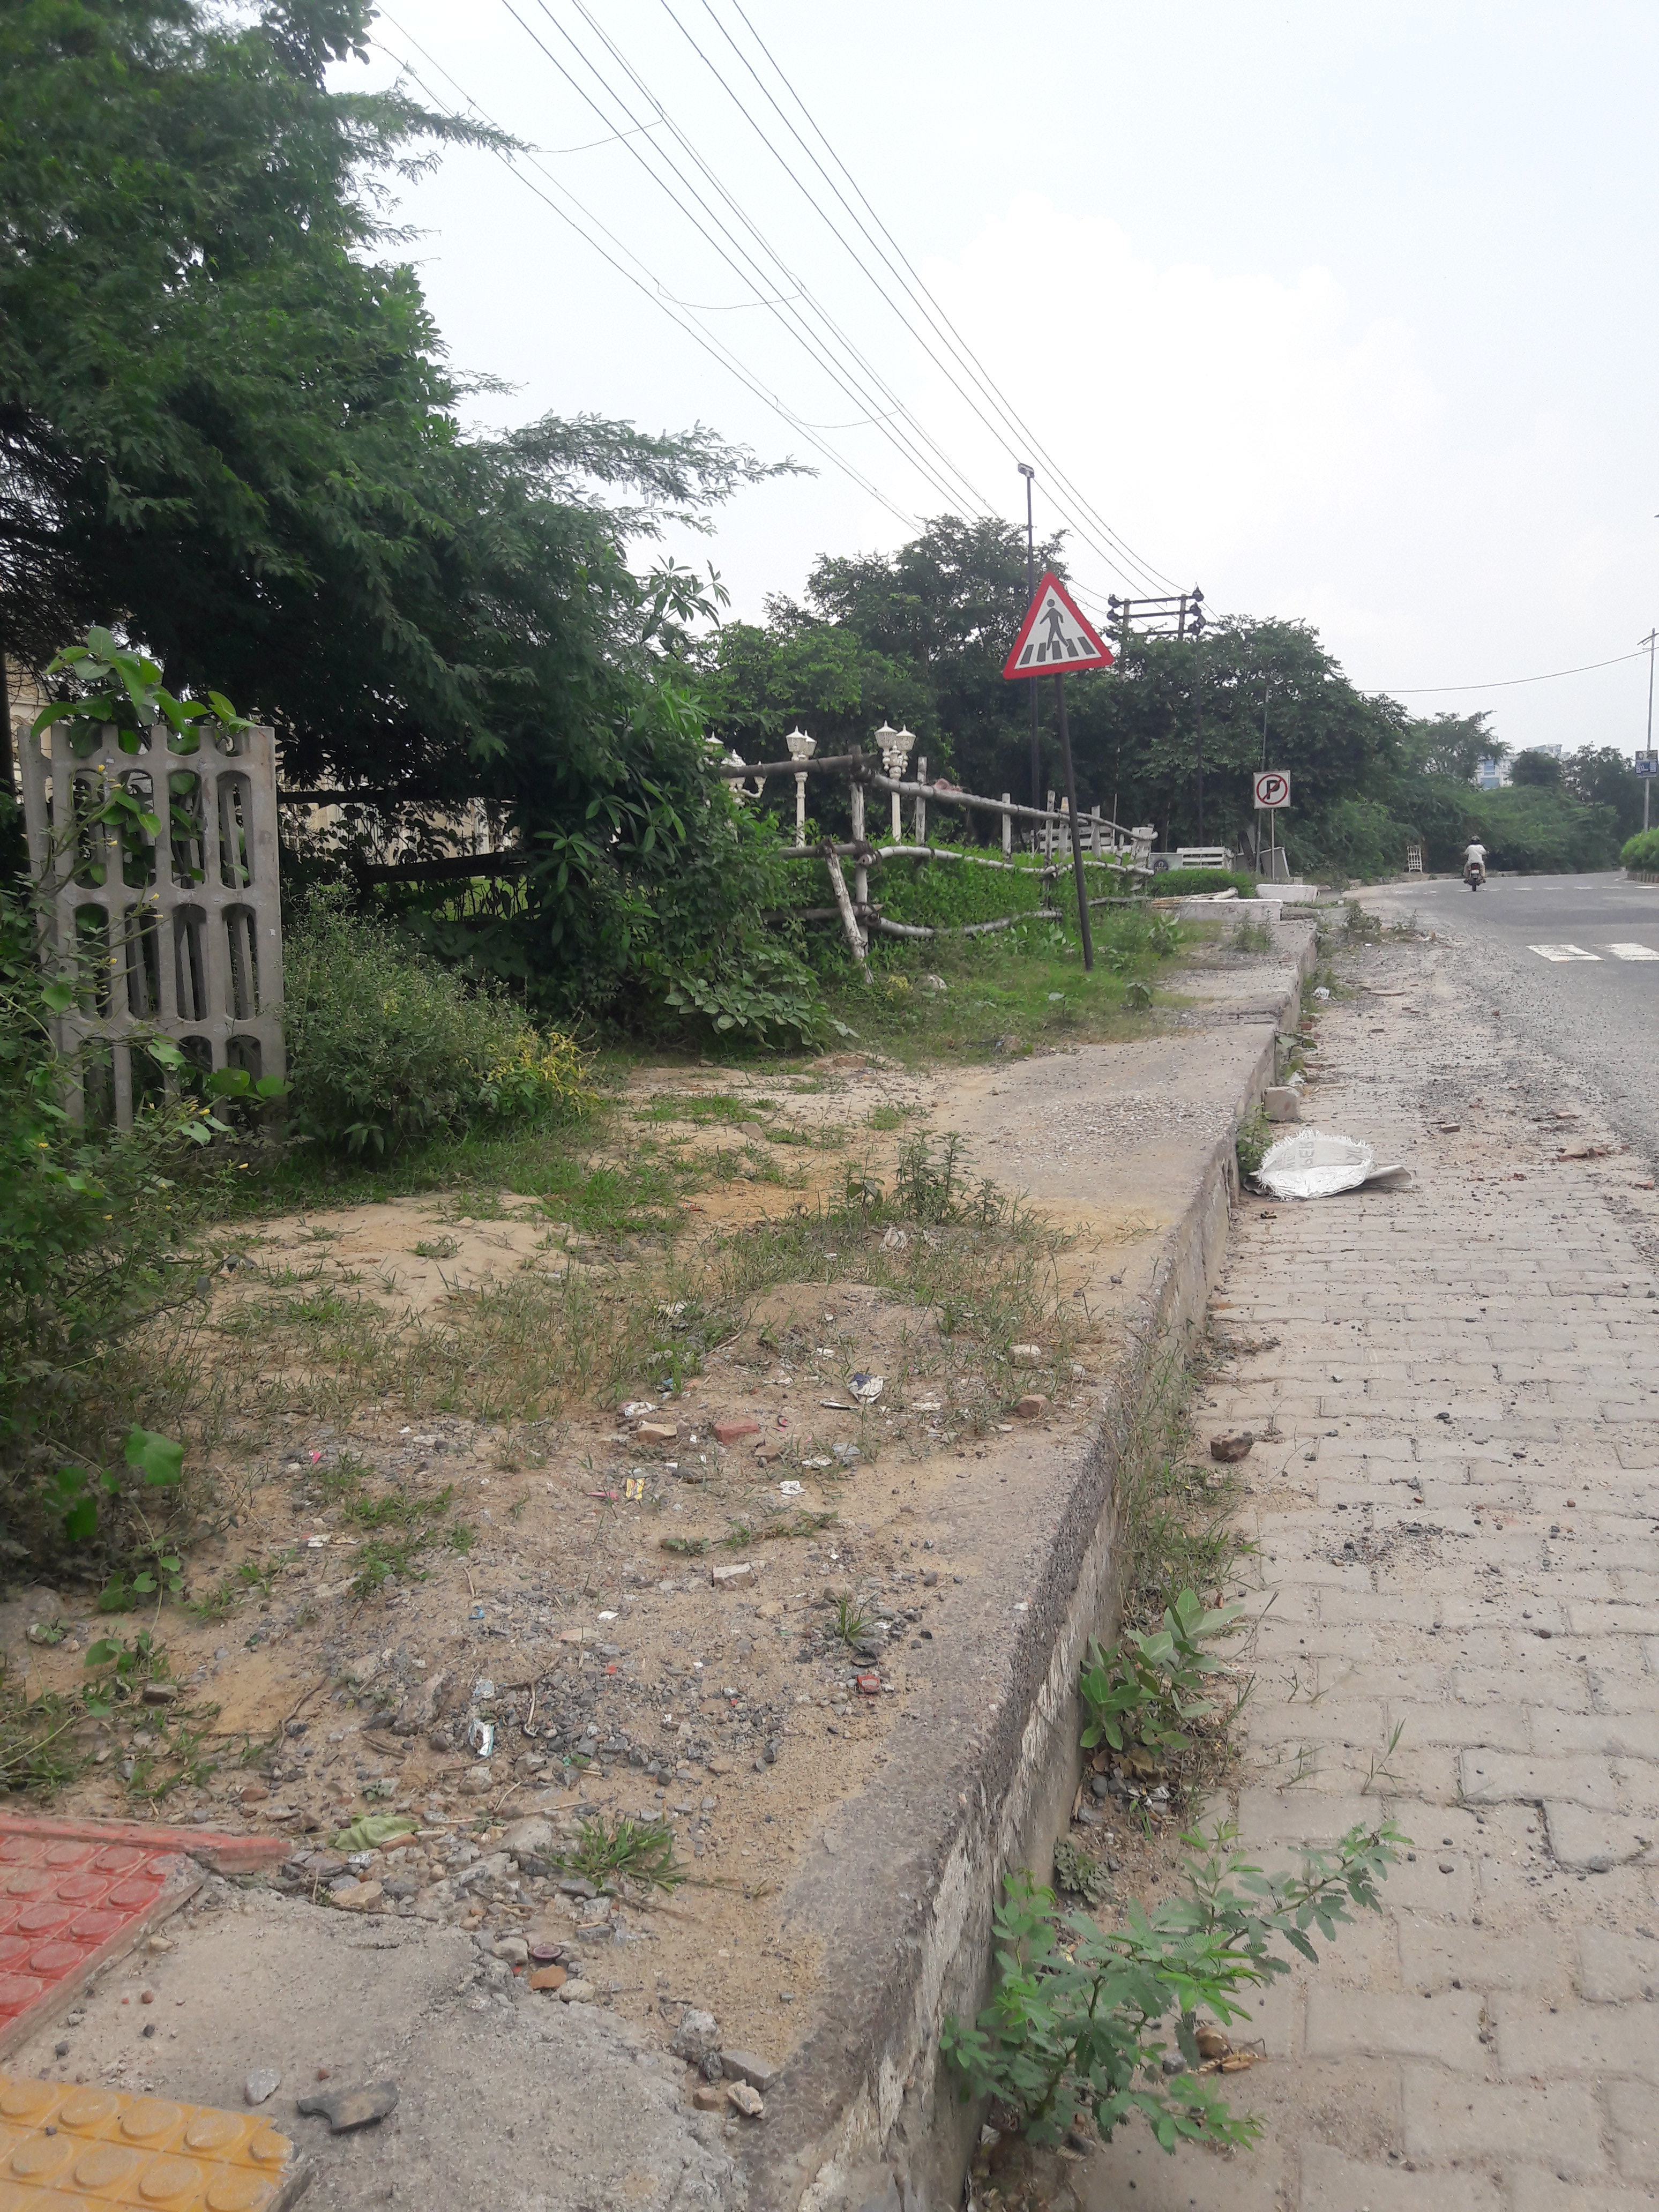traffic_sign: (1004, 575, 1112, 683), (1253, 770, 1291, 808)
